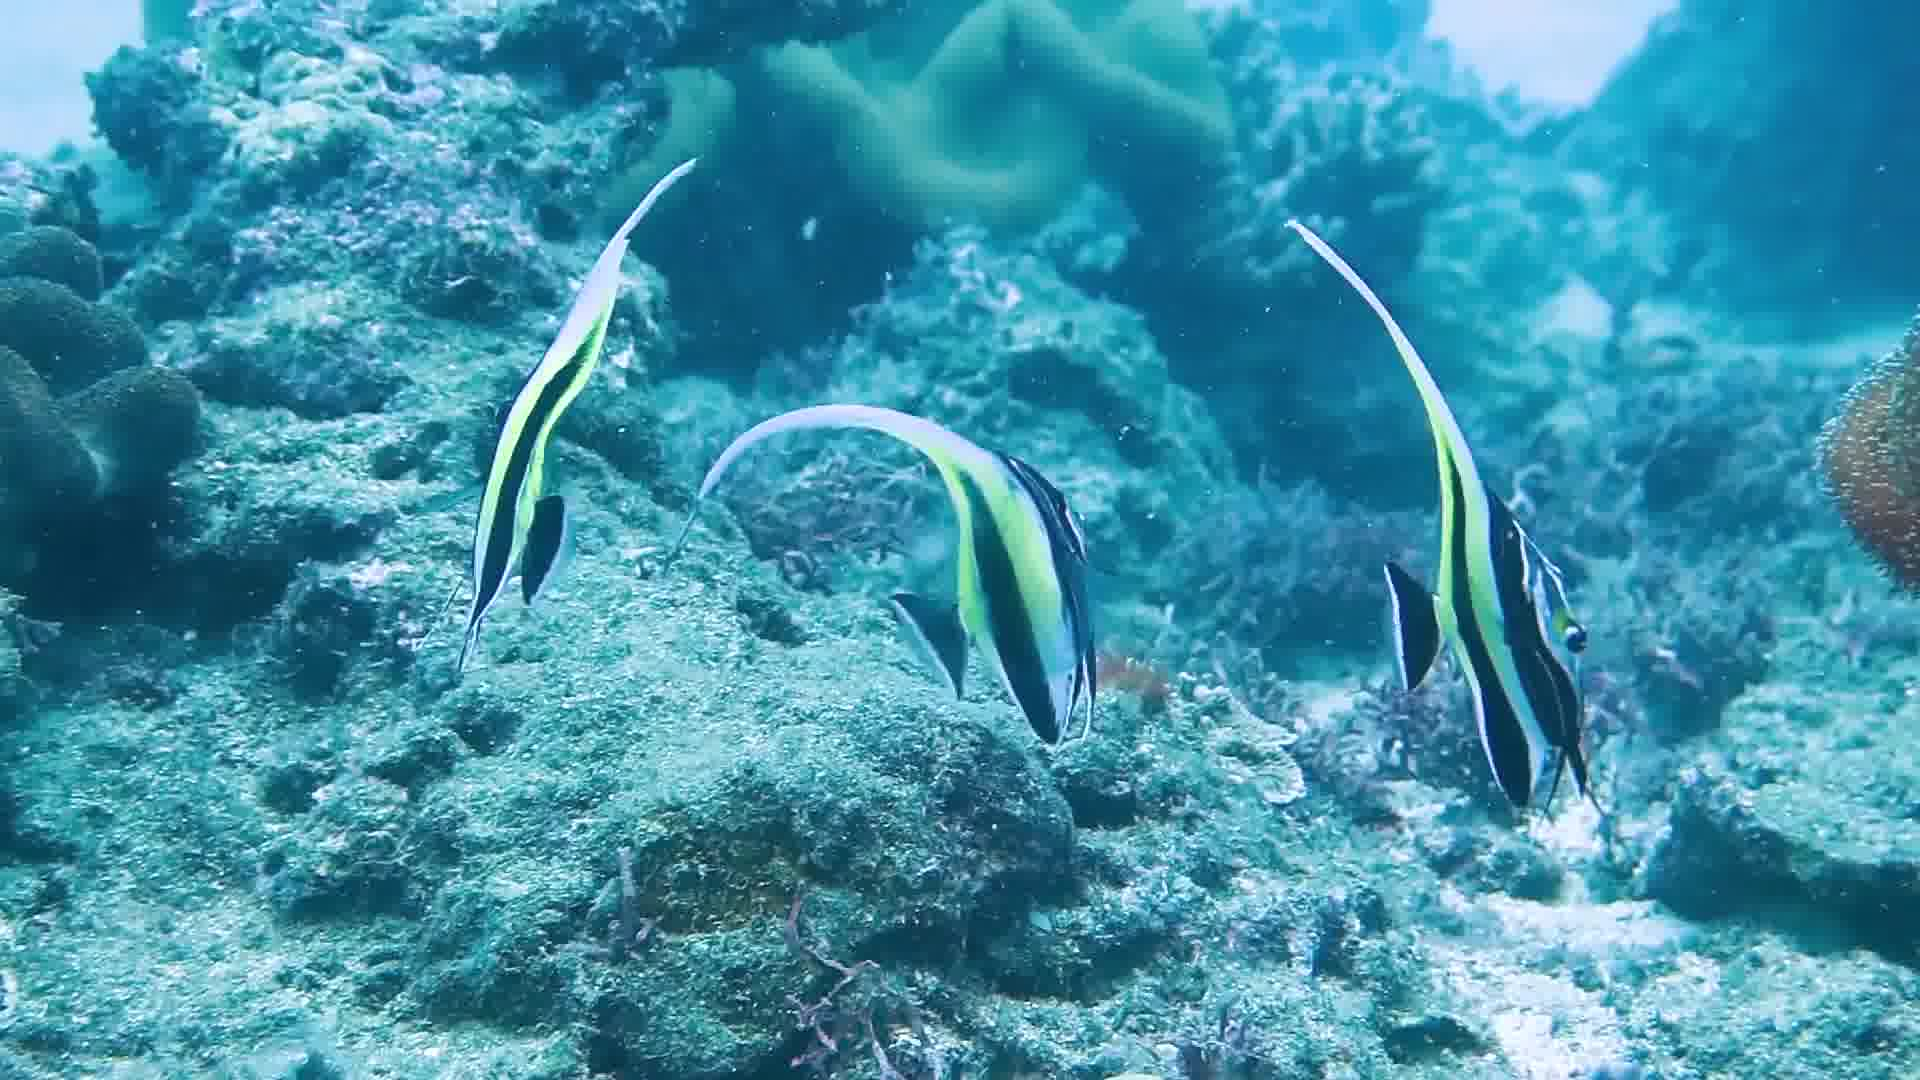Zanclus cornutus: (1349, 404, 1640, 858), (881, 435, 1153, 777), (477, 222, 615, 659)
